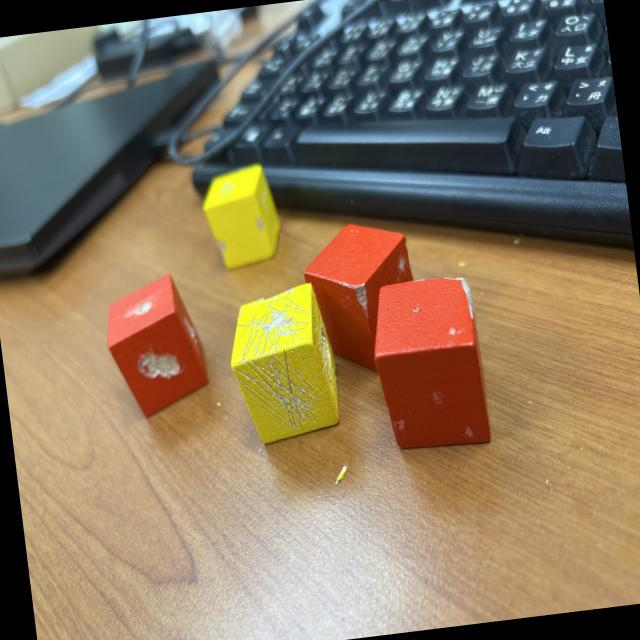broken: (364, 272, 492, 455), (298, 215, 426, 378), (222, 280, 344, 448), (100, 270, 213, 420), (197, 160, 285, 272)
